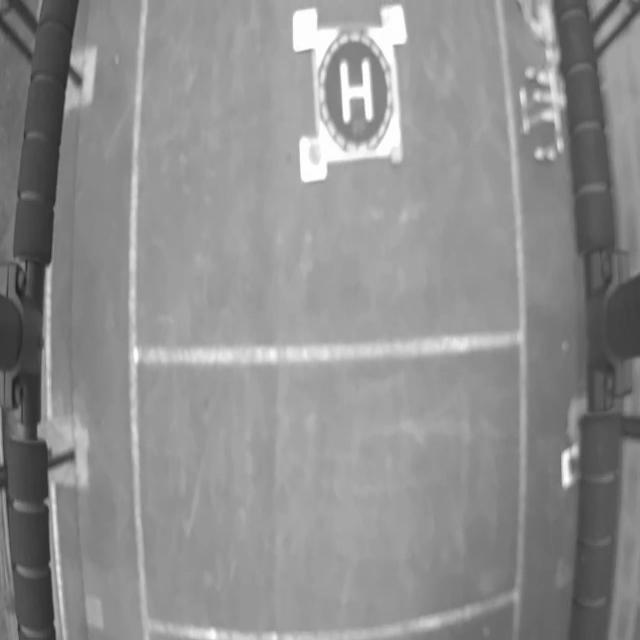Helipad: (339, 59, 374, 127)
